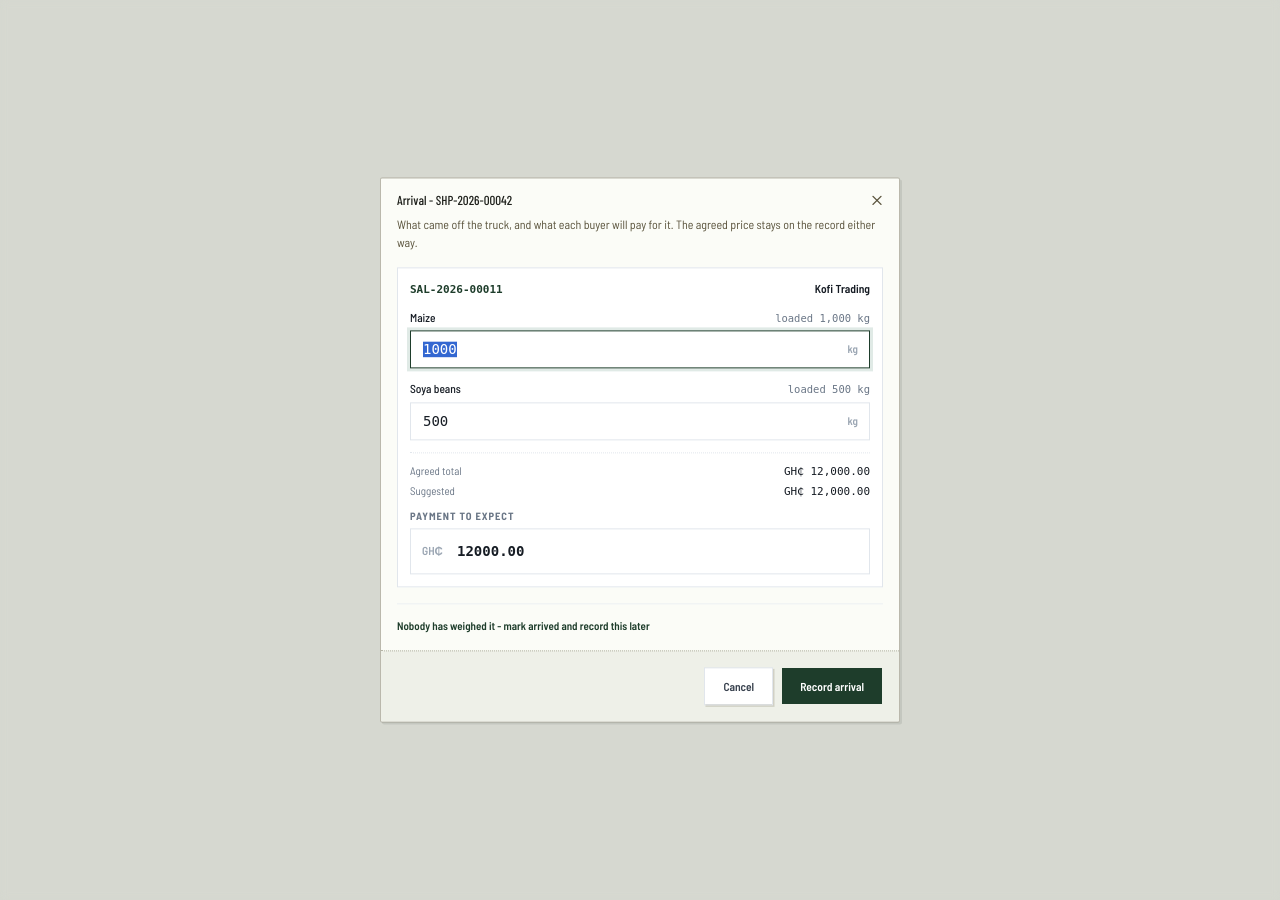
Test: ArrivalDialog › suggests received x agreed price, and follows the weights
Expected: the field showing "12000.00" is shown, [410,528,870,574]
Clear the field named "Received Maize" at (640, 350), box [410,331,870,369]
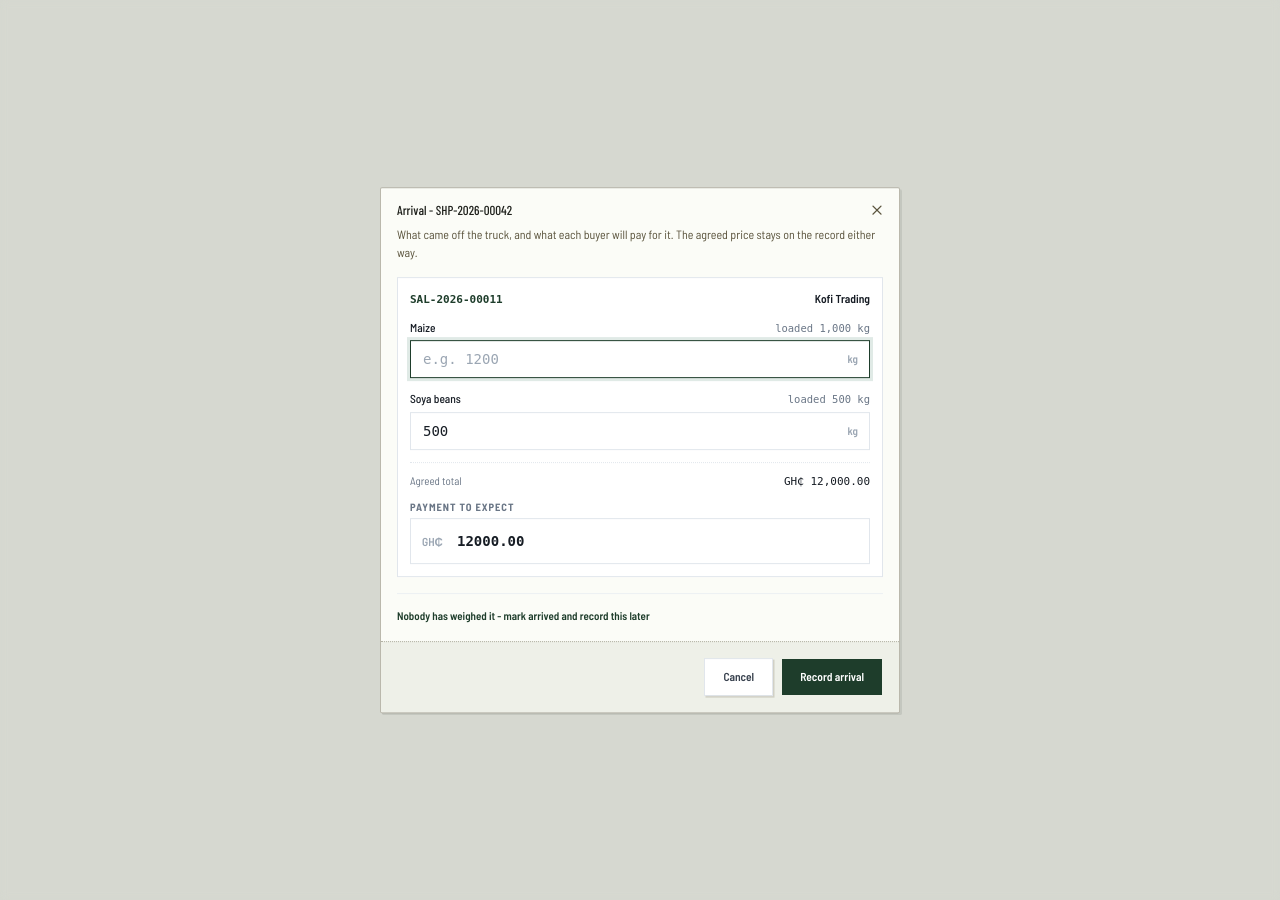
Type "976" into the field named "Received Maize" at (640, 359), box [410,340,870,378]
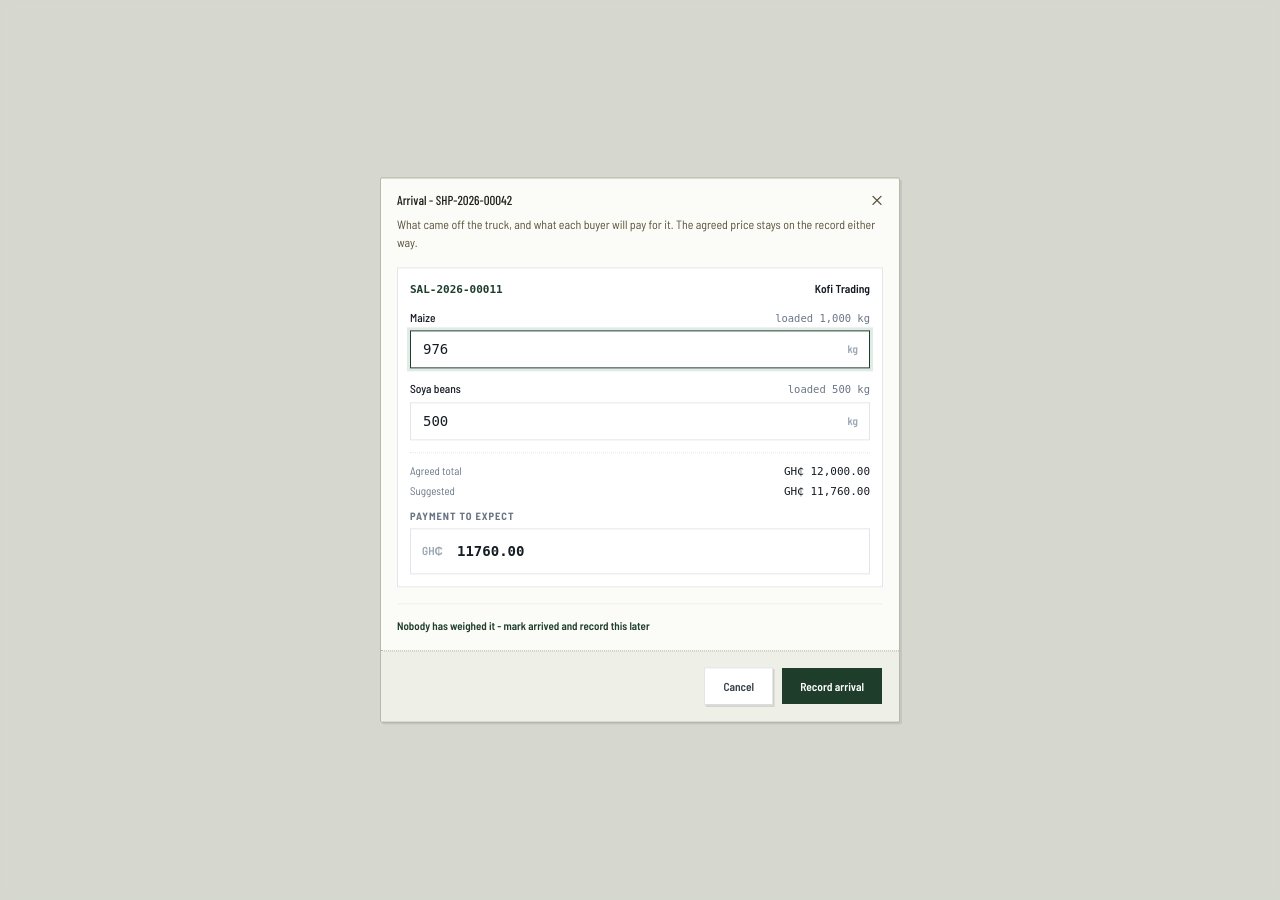
Expected: the field labelled "Payment to expect" holds "11760.00", [410,528,870,574]
Expected: the text "GH₵ 11,760.00" is shown, [784,484,870,500]
